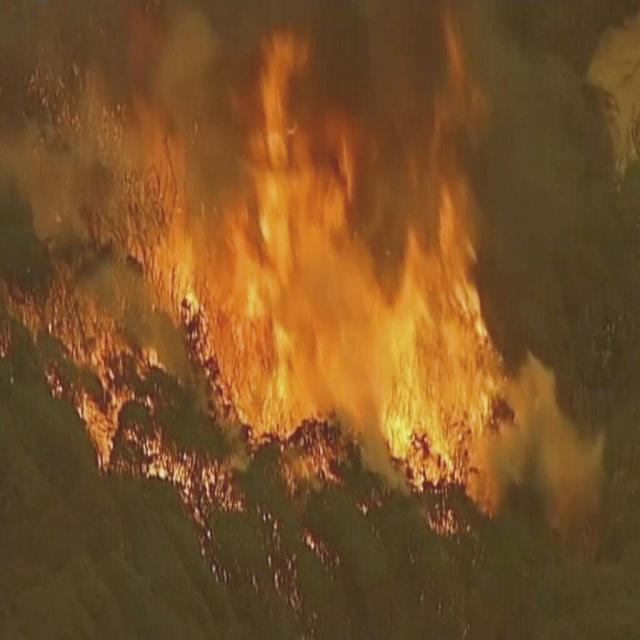Fire: (5, 12, 511, 568)
